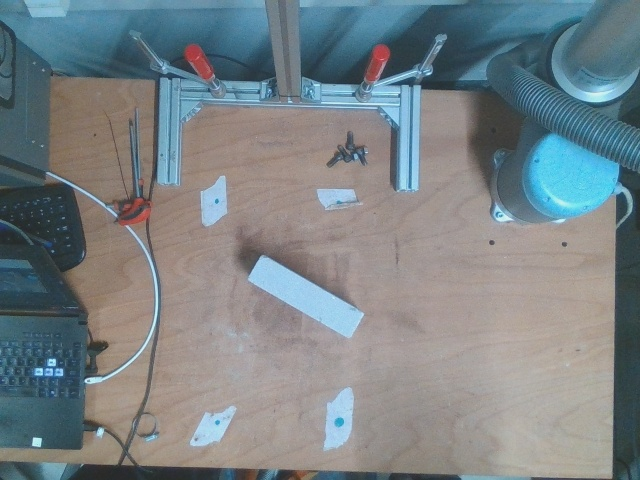brick-side: (247, 253, 366, 340)
